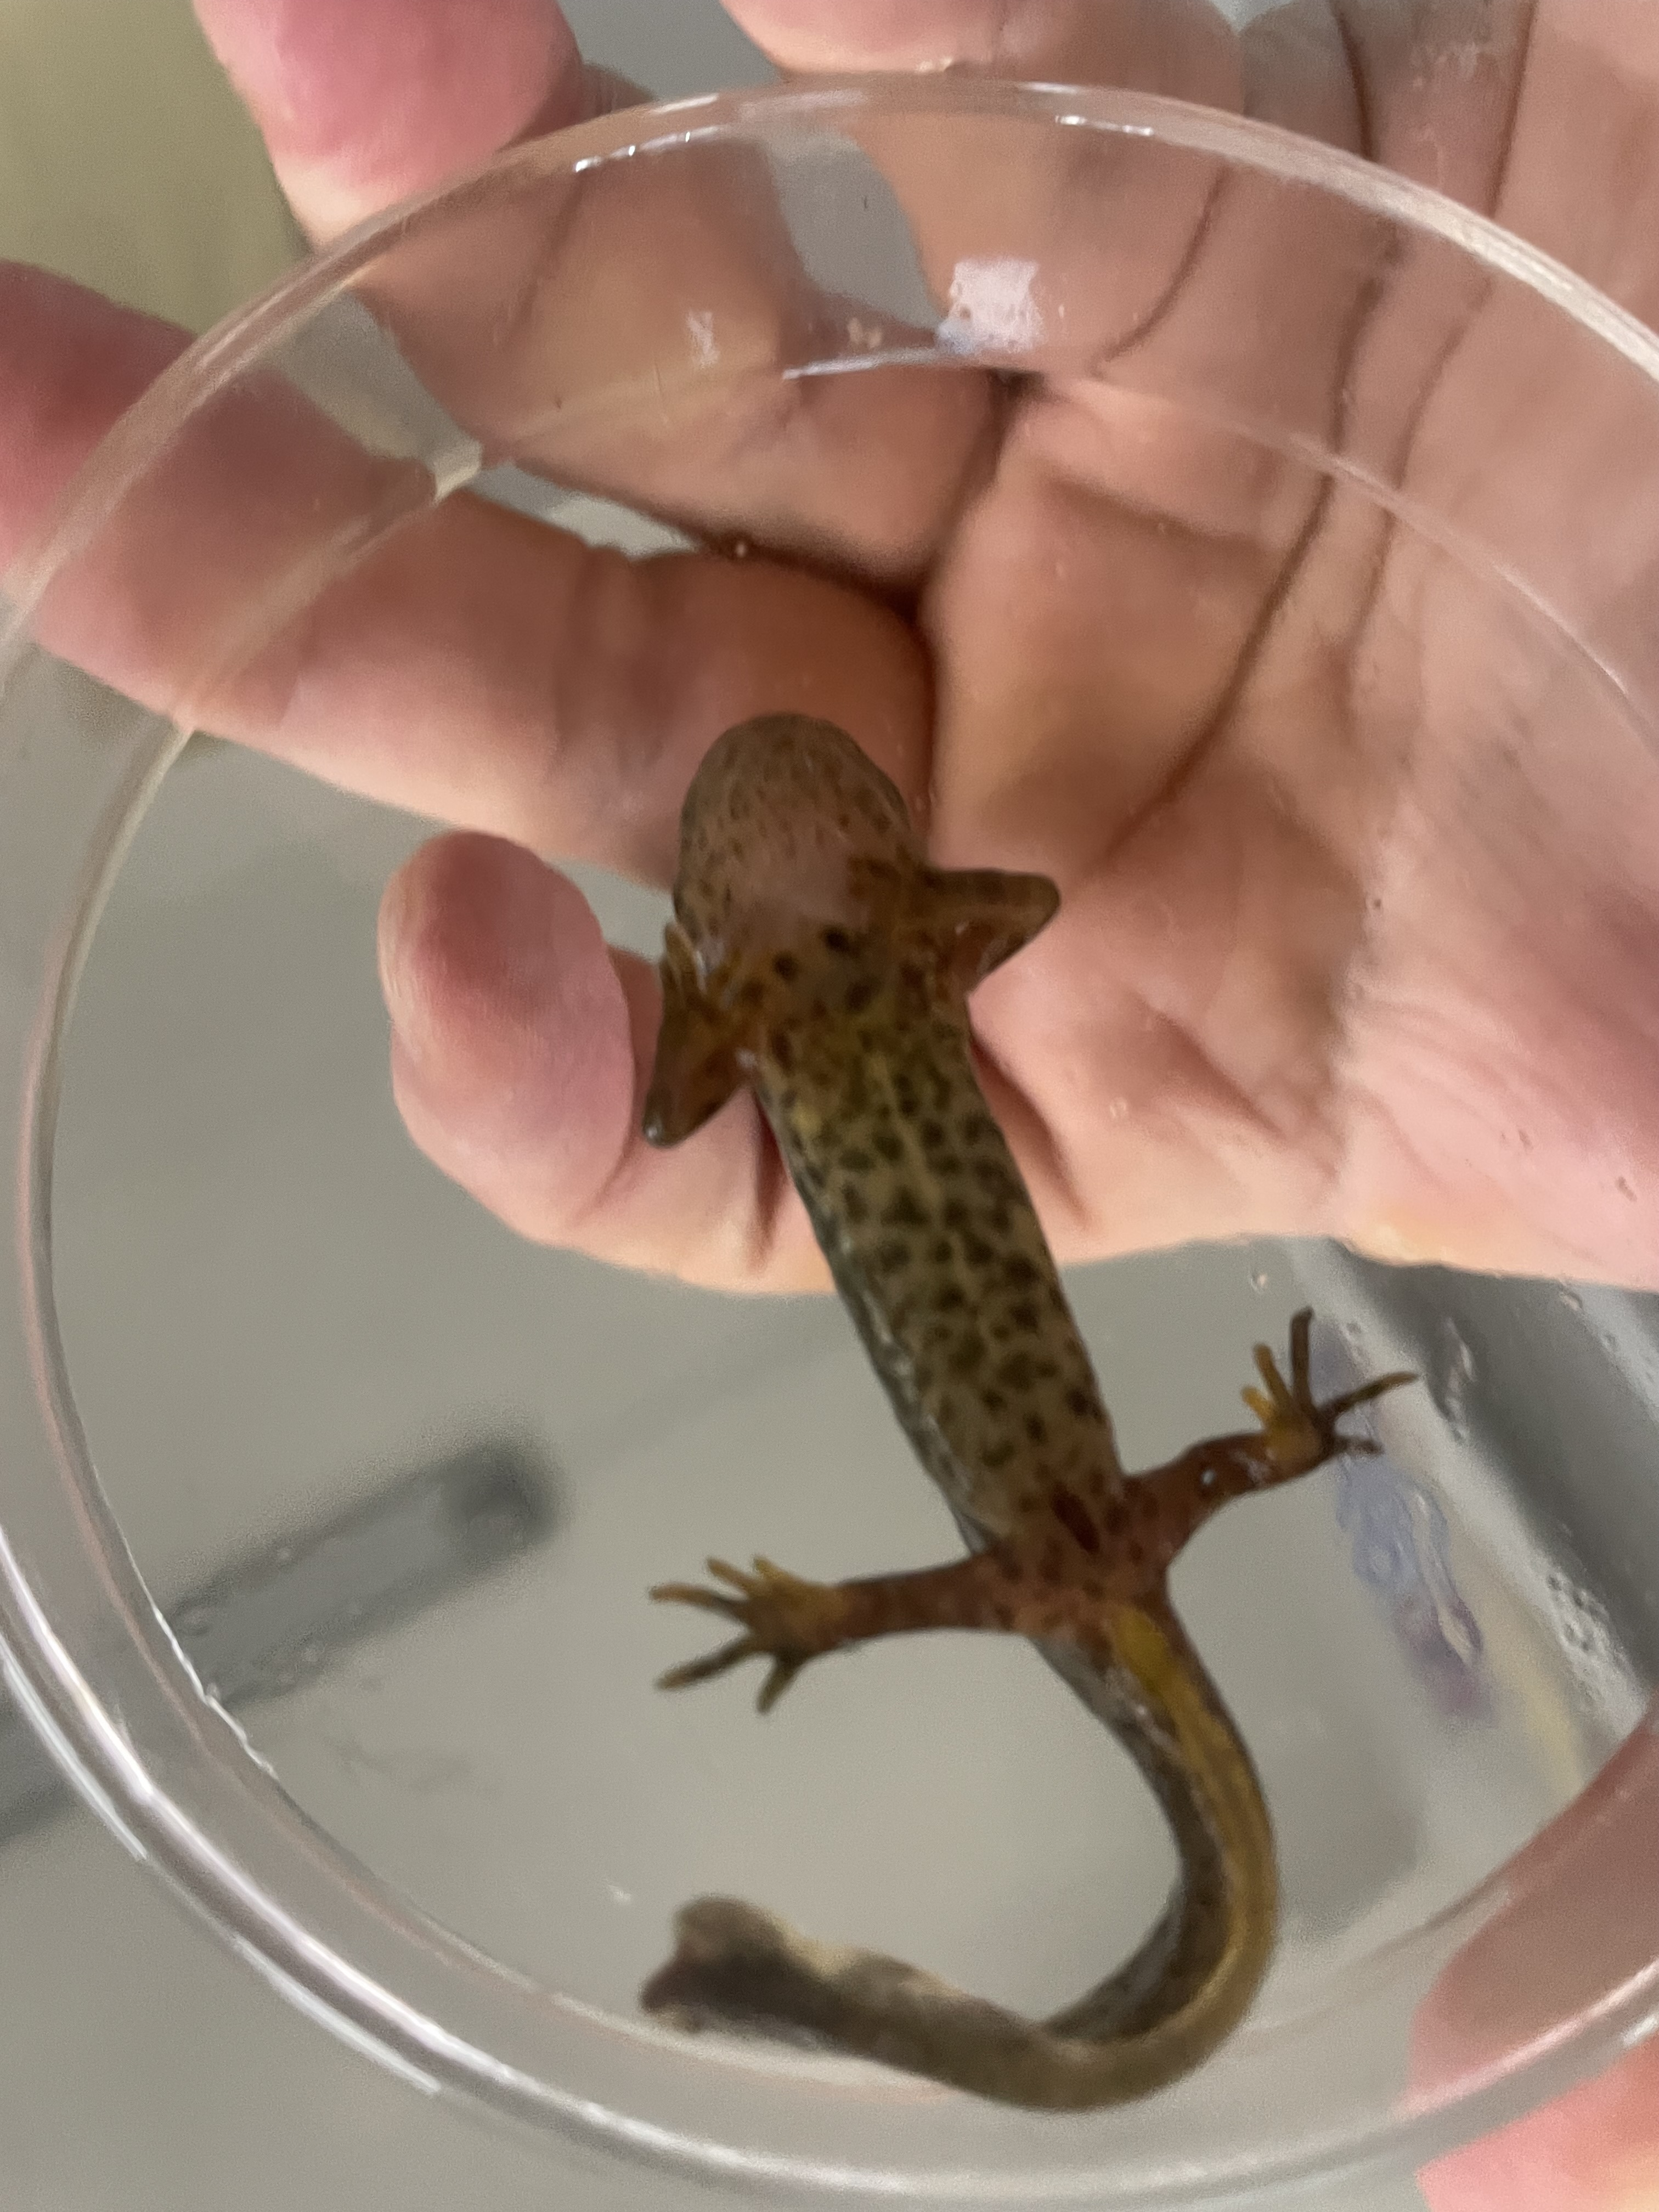newt_ribbed: (746, 996, 1122, 1555)
